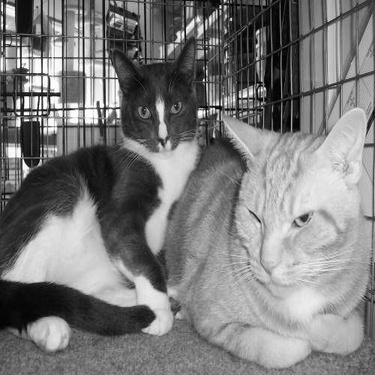cat: (2, 54, 206, 361), (160, 110, 367, 355)
